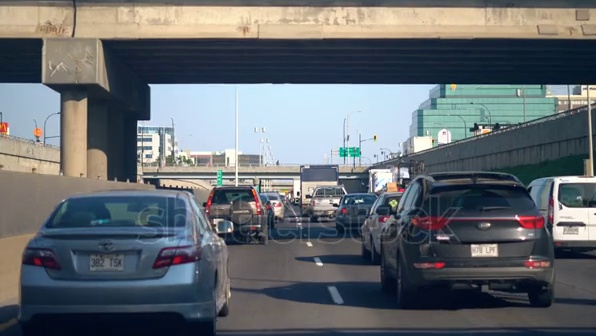licenseplate: (85, 249, 134, 276), (470, 239, 502, 262)
